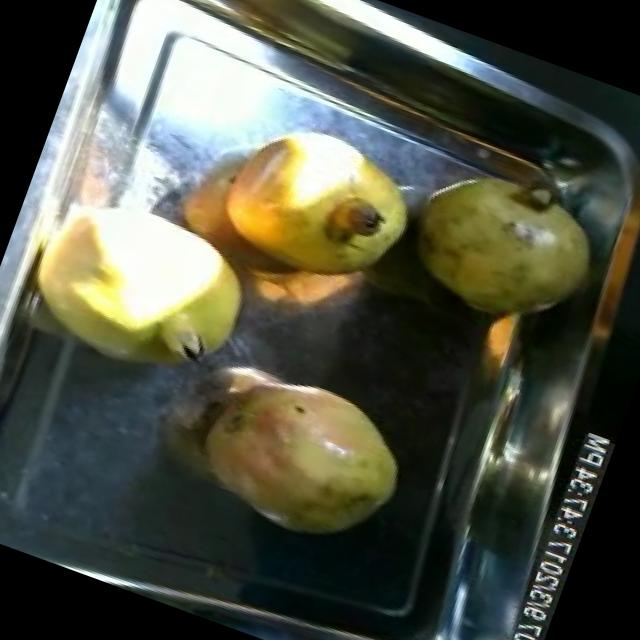fruit: (0, 160, 280, 418), (170, 347, 428, 568), (187, 96, 436, 316), (383, 142, 621, 354)
